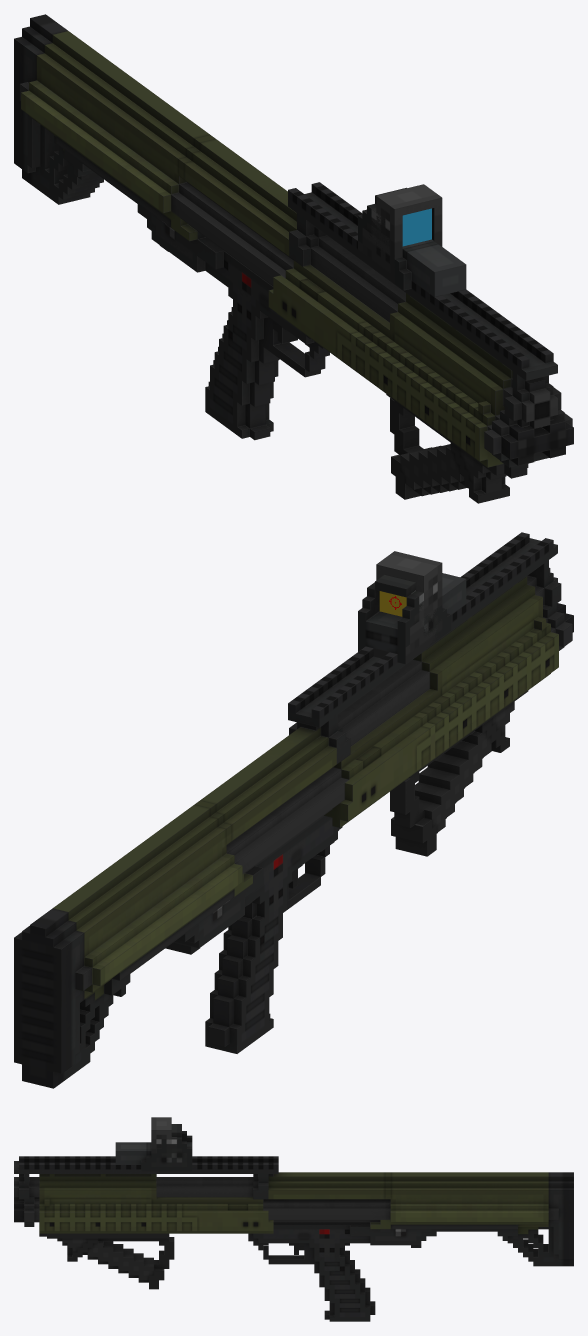
File: RD_KELTEC_A12.glb
The picture shows the model from 3 angles, top to bottom: view 1: azimuth 30°, elevation 25°; view 2: azimuth 150°, elevation 25°; view 3: azimuth 270°, elevation 25°; orthographic projection. The views are drawn at different scales.
Visible parts, largest first — view 1: KELTEC_KSG, KELTEC_KSG_FOREND, GRIP2, SCOPE_HOLOSUN, SCOPE_EOTECH; view 2: KELTEC_KSG, KELTEC_KSG_FOREND, GRIP2, SCOPE_EOTECH, SCOPE_HOLOSUN; view 3: KELTEC_KSG, KELTEC_KSG_FOREND, GRIP2, SCOPE_EOTECH, SCOPE_HOLOSUN.
Boxes of the visible parts, x1,y1,x2,y2 form: KELTEC_KSG: (14, 14, 573, 467); KELTEC_KSG_FOREND: (187, 182, 527, 478); GRIP2: (386, 394, 528, 503); SCOPE_HOLOSUN: (358, 184, 442, 283); SCOPE_EOTECH: (358, 187, 466, 296); KELTEC_KSG: (14, 532, 573, 1088); KELTEC_KSG_FOREND: (226, 576, 558, 845); GRIP2: (390, 690, 528, 856); SCOPE_EOTECH: (358, 573, 466, 664); SCOPE_HOLOSUN: (373, 551, 442, 663); KELTEC_KSG: (14, 1156, 573, 1321); KELTEC_KSG_FOREND: (39, 1174, 390, 1236); GRIP2: (47, 1233, 174, 1289); SCOPE_EOTECH: (115, 1124, 192, 1171); SCOPE_HOLOSUN: (151, 1117, 176, 1170).
Size of the model in its own units: 0.0984 by 0.4134 by 1.08.
6 materials, 6 textured.
